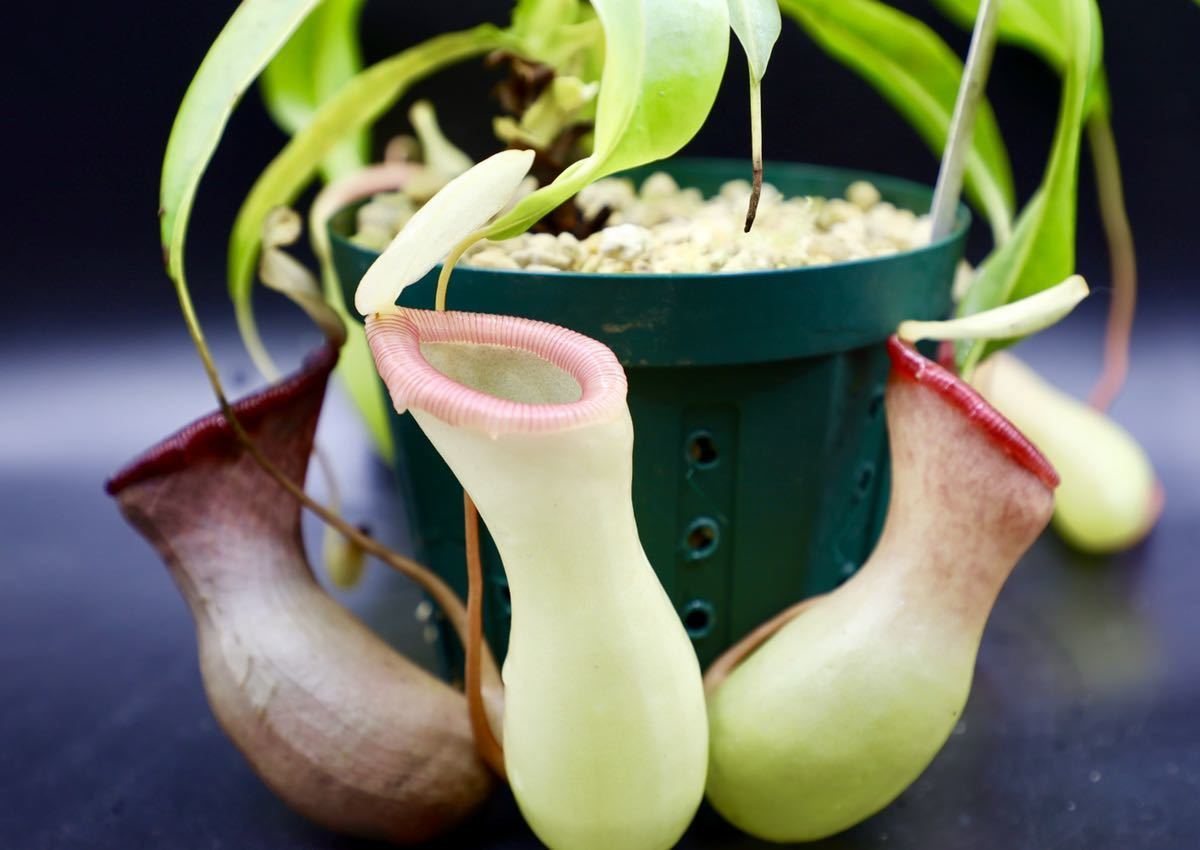ventricosa: (319, 133, 734, 845)
